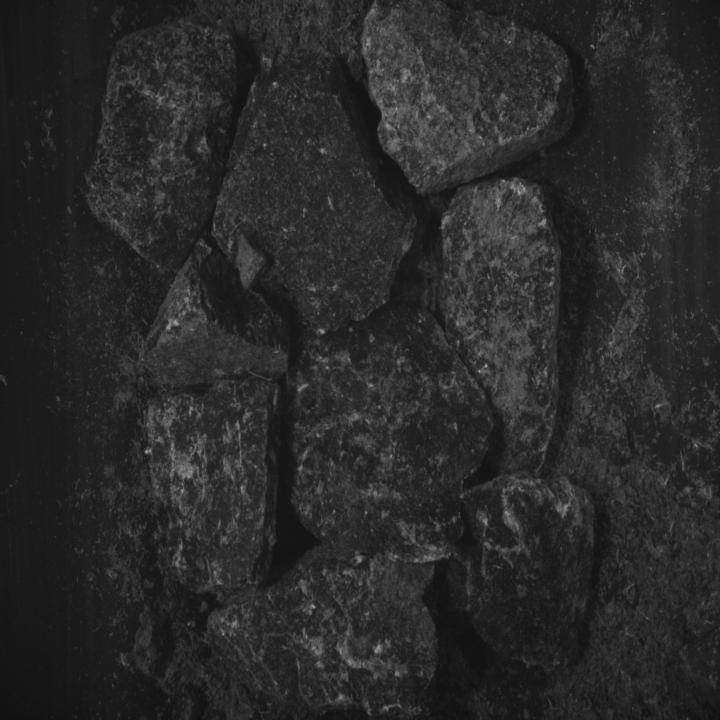stone: (212, 47, 416, 334), (288, 303, 493, 564), (363, 0, 575, 196), (86, 18, 236, 272), (439, 176, 560, 476), (208, 567, 441, 720), (146, 378, 279, 601), (446, 473, 596, 669), (139, 238, 289, 386), (234, 231, 268, 289)
